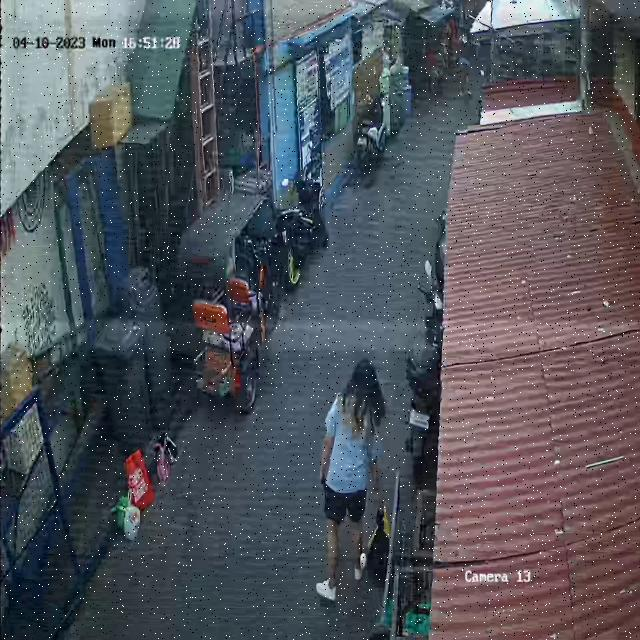human: (317, 360, 389, 601)
trash: (369, 496, 395, 588), (125, 446, 159, 513), (153, 412, 177, 488), (114, 489, 141, 541)
